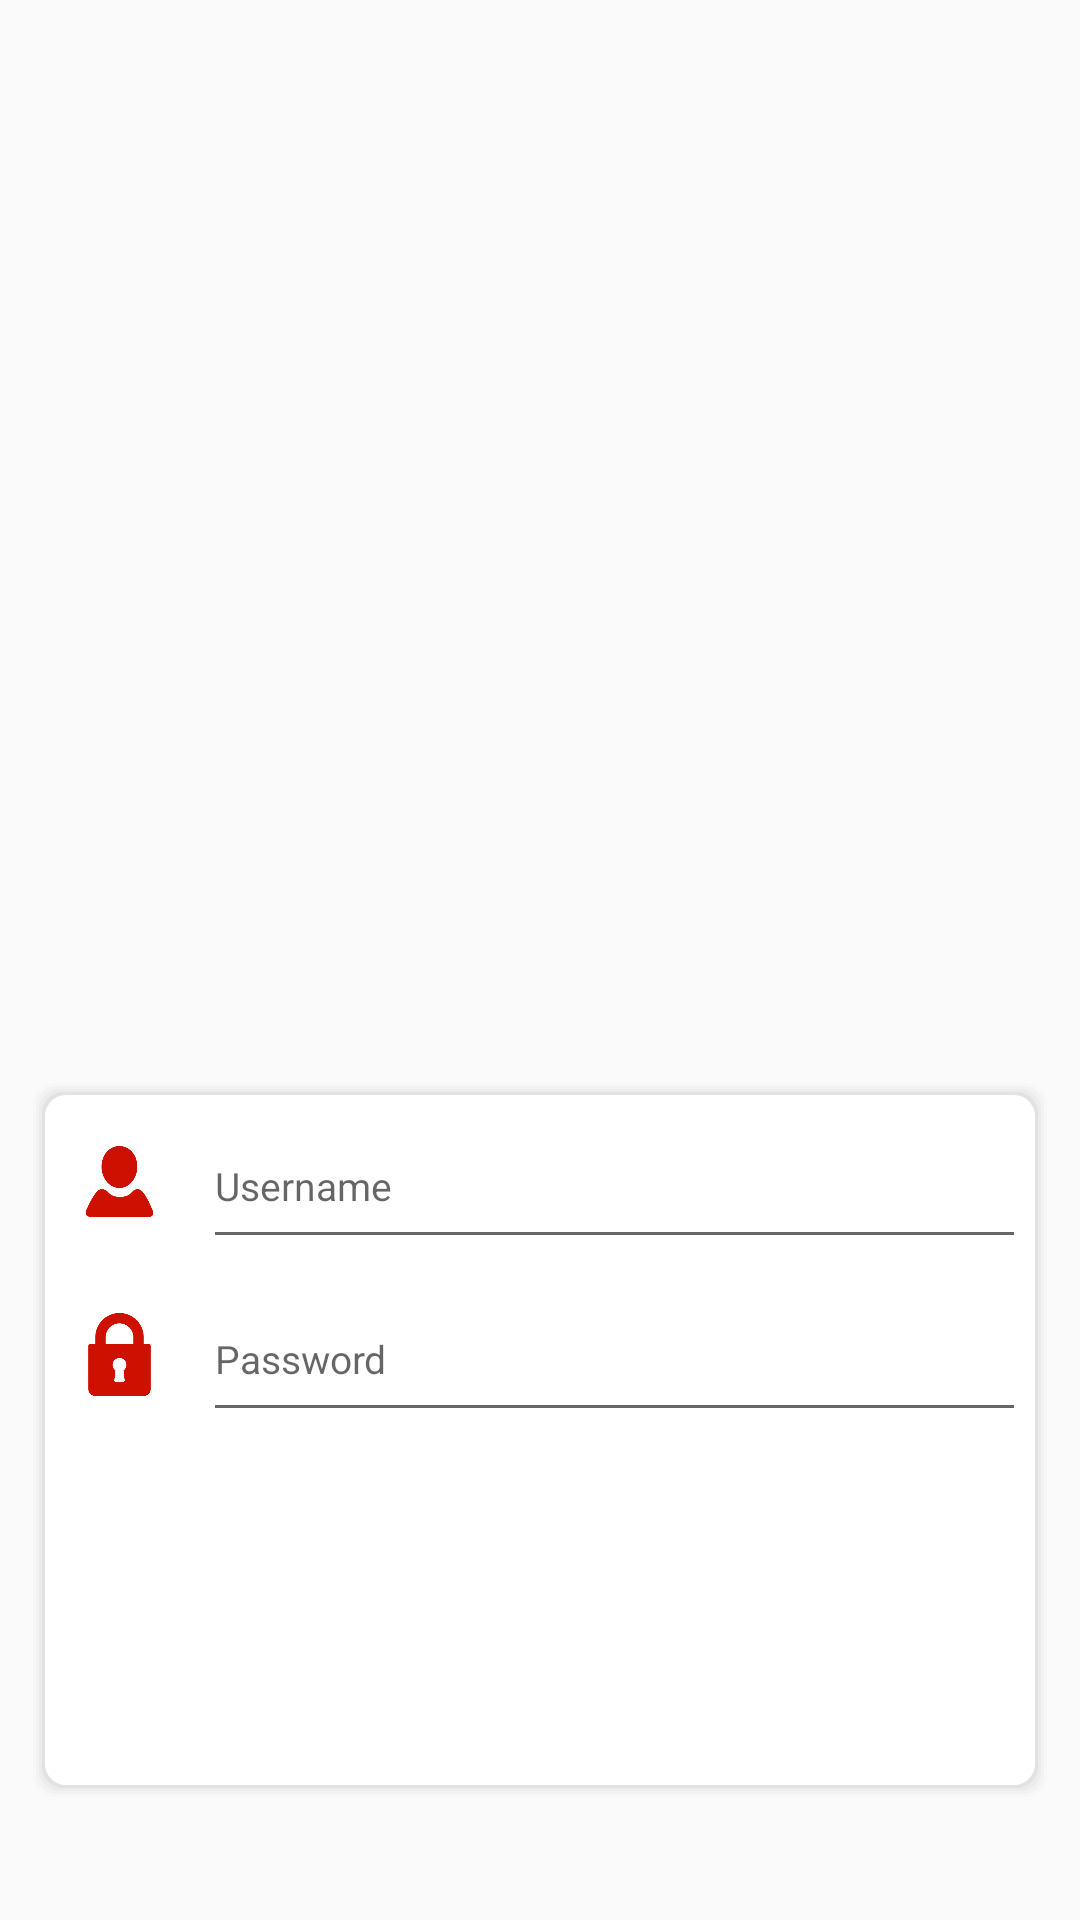

Screen size 1080px x 1920px. Icon name, then its box in pixels as (x1, y1, x2, y2):
lock: (88, 1313, 151, 1396)
